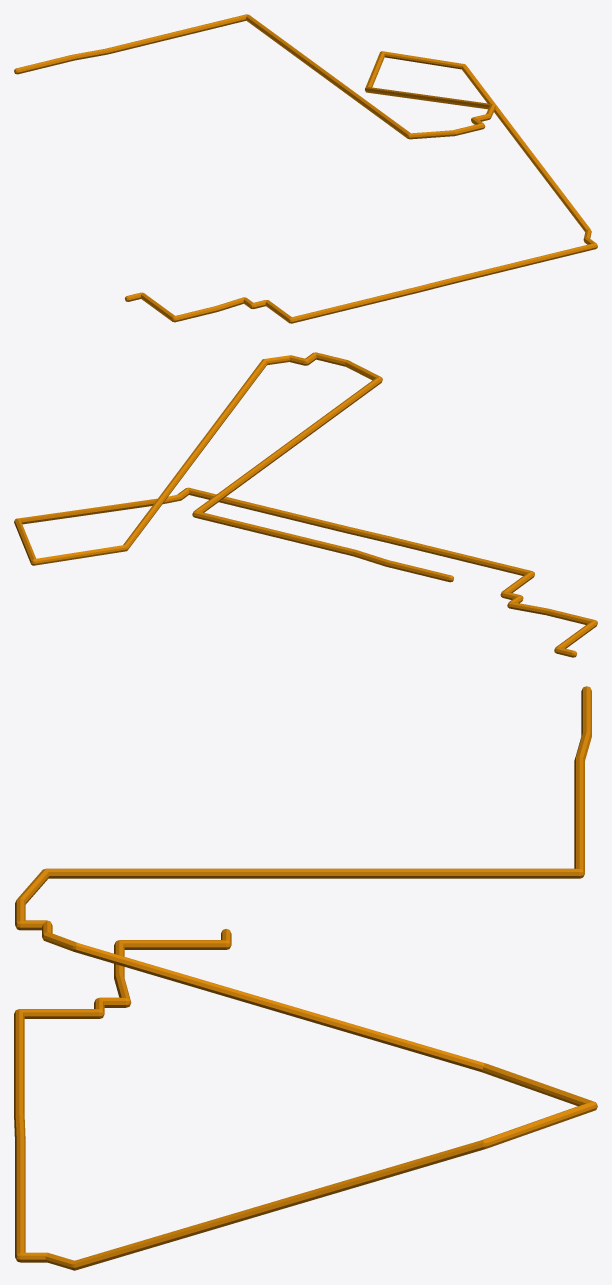
The picture shows the model from 3 angles, top to bottom: view 1: azimuth 30°, elevation 25°; view 2: azimuth 150°, elevation 25°; view 3: azimuth 270°, elevation 25°; orthographic projection. The views are drawn at different scales.
Bounding box in the file's own units: 1495 × 520 × 1094.
